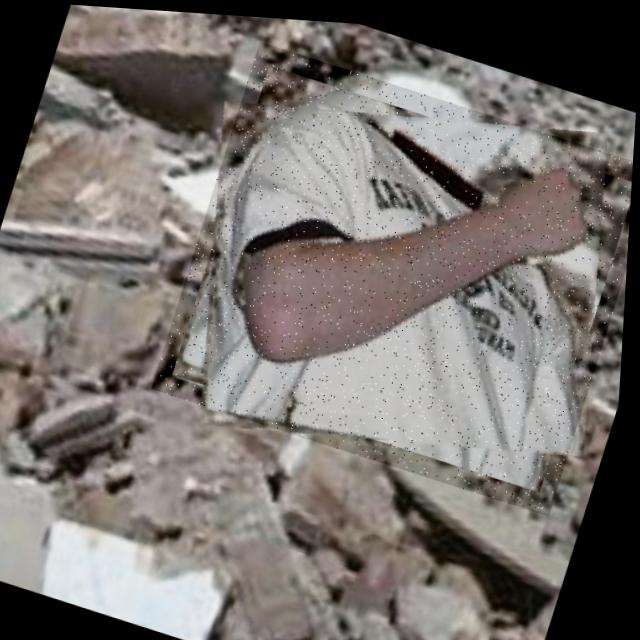Person in Rubble: (150, 33, 639, 512)
